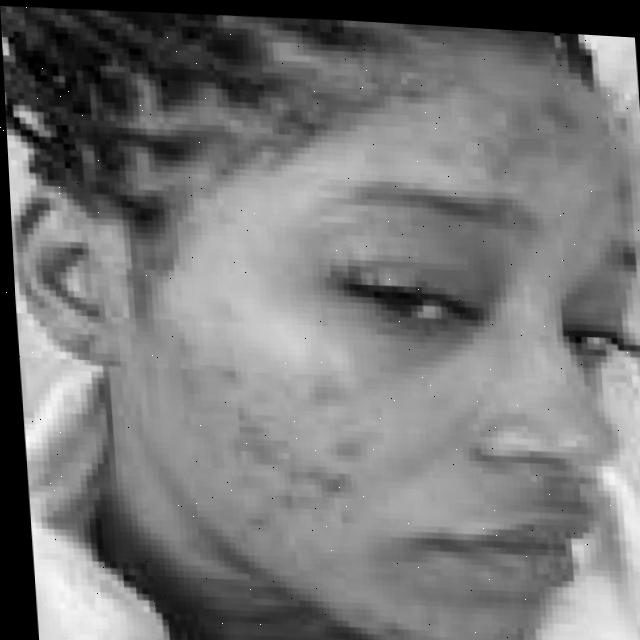Melasma: (198, 372, 381, 541), (476, 114, 580, 188)
